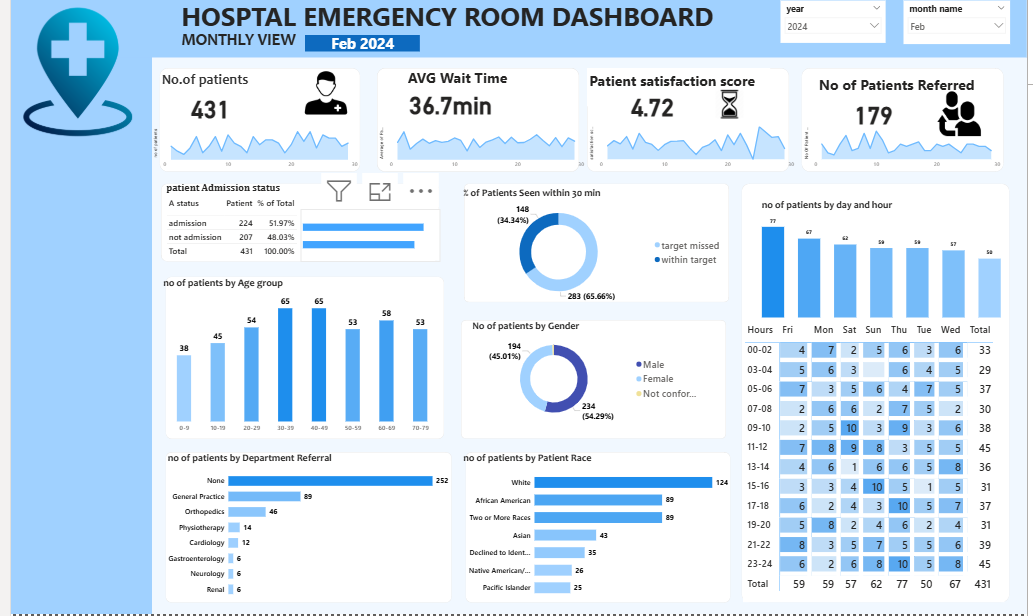

The dashboard page shown, as its layout file describes it:
{"tool":"powerbi","page":{"name":"dashbored","canvas":[2300,1400],"ordinal":0},"visuals":[{"type":"shape","box":[1017.2,734.5,600,269],"z":0},{"type":"shape","box":[0,0,319.2,1399],"z":1000},{"type":"shape","box":[225.8,0,2075.3,139.2],"z":2000},{"type":"textbox","box":[380.4,0,1274.3,108.2],"z":3000},{"type":"shape","box":[337.1,163.9,454.6,235.1],"z":4000},{"type":"textbox","box":[380.4,71.1,343.3,68],"z":5000},{"type":"card","fields":{"Values":["Hospital ER_Data.no of patients"]},"box":[337.1,201,228.9,99],"z":6000},{"type":"slicer","fields":{"Values":["Date table.year"]},"box":[1741.3,9.3,238.1,95.9],"z":7000},{"type":"slicer","fields":{"Values":["Date table.month name"]},"box":[2019.6,9.3,241.2,99],"z":8000},{"type":"textbox","box":[337.1,163.9,272.2,71.1],"z":9000},{"type":"areaChart","fields":{"Y":["Hospital ER_Data.no of patients"],"Category":["Date table.Date.Variation.Date Hierarchy.Day"]},"box":[315.5,281.4,476.3,117.5],"z":10000},{"type":"card","fields":{"Values":["Min(Date table.month & year)"]},"box":[665,86.6,259.8,37.1],"z":11000},{"type":"shape","box":[828.9,163.9,457.7,235.1],"z":12000},{"type":"shape","box":[1305.2,163.9,457.7,235.1],"z":13000},{"type":"shape","box":[1790.8,163.9,457.7,235.1],"z":14000},{"type":"shape","box":[828.9,163.9,457.7,235.1],"z":15000},{"type":"card","fields":{"Values":["Hospital ER_Data.Avg wait time"]},"box":[890.7,201,210.3,80.4],"z":16000},{"type":"textbox","box":[891.5,157.4,272.2,71.1],"z":17000},{"type":"areaChart","fields":{"Category":["Date table.Date.Variation.Date Hierarchy.Day"],"Y":["Avg(Hospital ER_Data.Patient Waittime)"]},"box":[828.9,281.4,476.3,117.5],"z":18000},{"type":"textbox","box":[1305.2,163.9,414.4,86.6],"z":19000},{"type":"card","fields":{"Values":["Hospital ER_Data.satisfaction score"]},"box":[1326.8,207.2,247.4,74.2],"z":20000},{"type":"areaChart","fields":{"Category":["Date table.Date.Variation.Date Hierarchy.Day"],"Y":["Hospital ER_Data.satisfaction score"]},"box":[1305.2,281.4,476.3,117.5],"z":21000},{"type":"textbox","box":[1824.8,173.2,386.6,77.3],"z":22000},{"type":"card","fields":{"Values":["Hospital ER_Data.No Of Patient Referred"]},"box":[1824.8,228.9,256.7,71.1],"z":23000},{"type":"areaChart","fields":{"Category":["Date table.Date.Variation.Date Hierarchy.Day"],"Y":["Hospital ER_Data.No Of Patient Referred"]},"box":[1790.8,281.4,457.7,117.5],"z":24000},{"type":"shape","box":[340.2,423.7,630,177],"z":25000},{"type":"tableEx","title":"patient Admission status","fields":{"Values":["Hospital ER_Data.A status","Hospital ER_Data.no of patients1","Hospital ER_Data.no of patients"]},"box":[345,422.5,625,177.5],"z":26000},{"type":"barChart","fields":{"Category":["Hospital ER_Data.A status"],"Y":["Hospital ER_Data.no of patients"]},"box":[655,483.3,315,116.7],"z":27000},{"type":"shape","box":[349.5,634,630.9,368],"z":28000},{"type":"clusteredColumnChart","fields":{"Category":["Hospital ER_Data.Age group"],"Y":["Hospital ER_Data.no of patients"]},"box":[340.2,634,640.2,361.9],"z":29000},{"type":"shape","box":[348.3,1031,648.3,341.4],"z":30000},{"type":"clusteredBarChart","fields":{"Category":["Hospital ER_Data.Department Referral"],"Y":["Hospital ER_Data.no of patients"]},"box":[348.3,1031,648.3,341.4],"z":31000},{"type":"donutChart","title":"No of patients by Gender","fields":{"Y":["Hospital ER_Data.no of patients"],"Category":["Hospital ER_Data.Patient Gender"]},"box":[1037.9,734.5,537.9,237.9],"z":32000},{"type":"shape","box":[1026.8,423.7,600,269.1],"z":33000},{"type":"donutChart","title":"% of Patients Seen within 30 min","fields":{"Category":["Hospital ER_Data.Waittime status"],"Y":["Hospital ER_Data.no of patients"]},"box":[1017.2,431,600,269],"z":34000},{"type":"shape","box":[1027.6,1031,600,341.4],"z":35000},{"type":"clusteredBarChart","fields":{"Y":["Hospital ER_Data.no of patients"],"Category":["Hospital ER_Data.Patient Race"]},"box":[1017.2,1031,610.3,341.4],"z":36000},{"type":"shape","box":[1655.2,424.1,606.9,948.3],"z":37000},{"type":"pivotTable","fields":{"Rows":["Hospital ER_Data.waittime interval"],"Columns":["Date table.day name"],"Values":["Hospital ER_Data.no of patients"]},"box":[1656.4,733.3,592.3,638.5],"z":38000},{"type":"columnChart","title":"no of patients by day and hour","fields":{"Category":["Date table.day name"],"Y":["Hospital ER_Data.no of patients"]},"box":[1694.5,458.4,553.5,275.1],"z":39000},{"type":"image","box":[0,20.4,302.2,302.2],"z":40000},{"type":"image","box":[658.8,163,108.7,112.1],"z":41000},{"type":"image","box":[1534.9,207.1,183.4,74.7],"z":42000},{"type":"image","box":[2082.2,210.5,129.9,111.9],"z":43000}]}

Visuals, with their boxes in screenshot pixels (x1, y1, x2, y2), scaled from the page's 2300x1400 canvas onto the 1033x616 screenshot:
shape: 457, 323, 726, 442
shape: 0, 0, 143, 615
shape: 101, 0, 1032, 61
textbox: 171, 0, 743, 48
shape: 151, 72, 356, 176
textbox: 171, 31, 325, 61
card - Hospital ER_Data.no of patients: 151, 88, 254, 132
slicer - Date table.year: 782, 4, 889, 46
slicer - Date table.month name: 907, 4, 1015, 48
textbox: 151, 72, 274, 103
areaChart - Hospital ER_Data.no of patients x Date table.Date.Variation.Date Hierarchy.Day: 142, 124, 356, 176
card - Min(Date table.month & year): 299, 38, 415, 54
shape: 372, 72, 578, 176
shape: 586, 72, 792, 176
shape: 804, 72, 1010, 176
shape: 372, 72, 578, 176
card - Hospital ER_Data.Avg wait time: 400, 88, 494, 124
textbox: 400, 69, 523, 101
areaChart - Date table.Date.Variation.Date Hierarchy.Day x Avg(Hospital ER_Data.Patient Waittime): 372, 124, 586, 176
textbox: 586, 72, 772, 110
card - Hospital ER_Data.satisfaction score: 596, 91, 707, 124
areaChart - Date table.Date.Variation.Date Hierarchy.Day x Hospital ER_Data.satisfaction score: 586, 124, 800, 176
textbox: 820, 76, 993, 110
card - Hospital ER_Data.No Of Patient Referred: 820, 101, 935, 132
areaChart - Date table.Date.Variation.Date Hierarchy.Day x Hospital ER_Data.No Of Patient Referred: 804, 124, 1010, 176
shape: 153, 186, 436, 264
"patient Admission status" tableEx: 155, 186, 436, 264
barChart - Hospital ER_Data.A status x Hospital ER_Data.no of patients: 294, 213, 436, 264
shape: 157, 279, 440, 441
clusteredColumnChart - Hospital ER_Data.Age group x Hospital ER_Data.no of patients: 153, 279, 440, 438
shape: 156, 454, 448, 604
clusteredBarChart - Hospital ER_Data.Department Referral x Hospital ER_Data.no of patients: 156, 454, 448, 604
"No of patients by Gender" donutChart: 466, 323, 708, 428
shape: 461, 186, 731, 305
"% of Patients Seen within 30 min" donutChart: 457, 190, 726, 308
shape: 462, 454, 731, 604
clusteredBarChart - Hospital ER_Data.no of patients x Hospital ER_Data.Patient Race: 457, 454, 731, 604
shape: 743, 187, 1016, 604
pivotTable - Hospital ER_Data.waittime interval x Date table.day name: 744, 323, 1010, 604
"no of patients by day and hour" columnChart: 761, 202, 1010, 323
image: 0, 9, 136, 142
image: 296, 72, 345, 121
image: 689, 91, 772, 124
image: 935, 93, 994, 142
